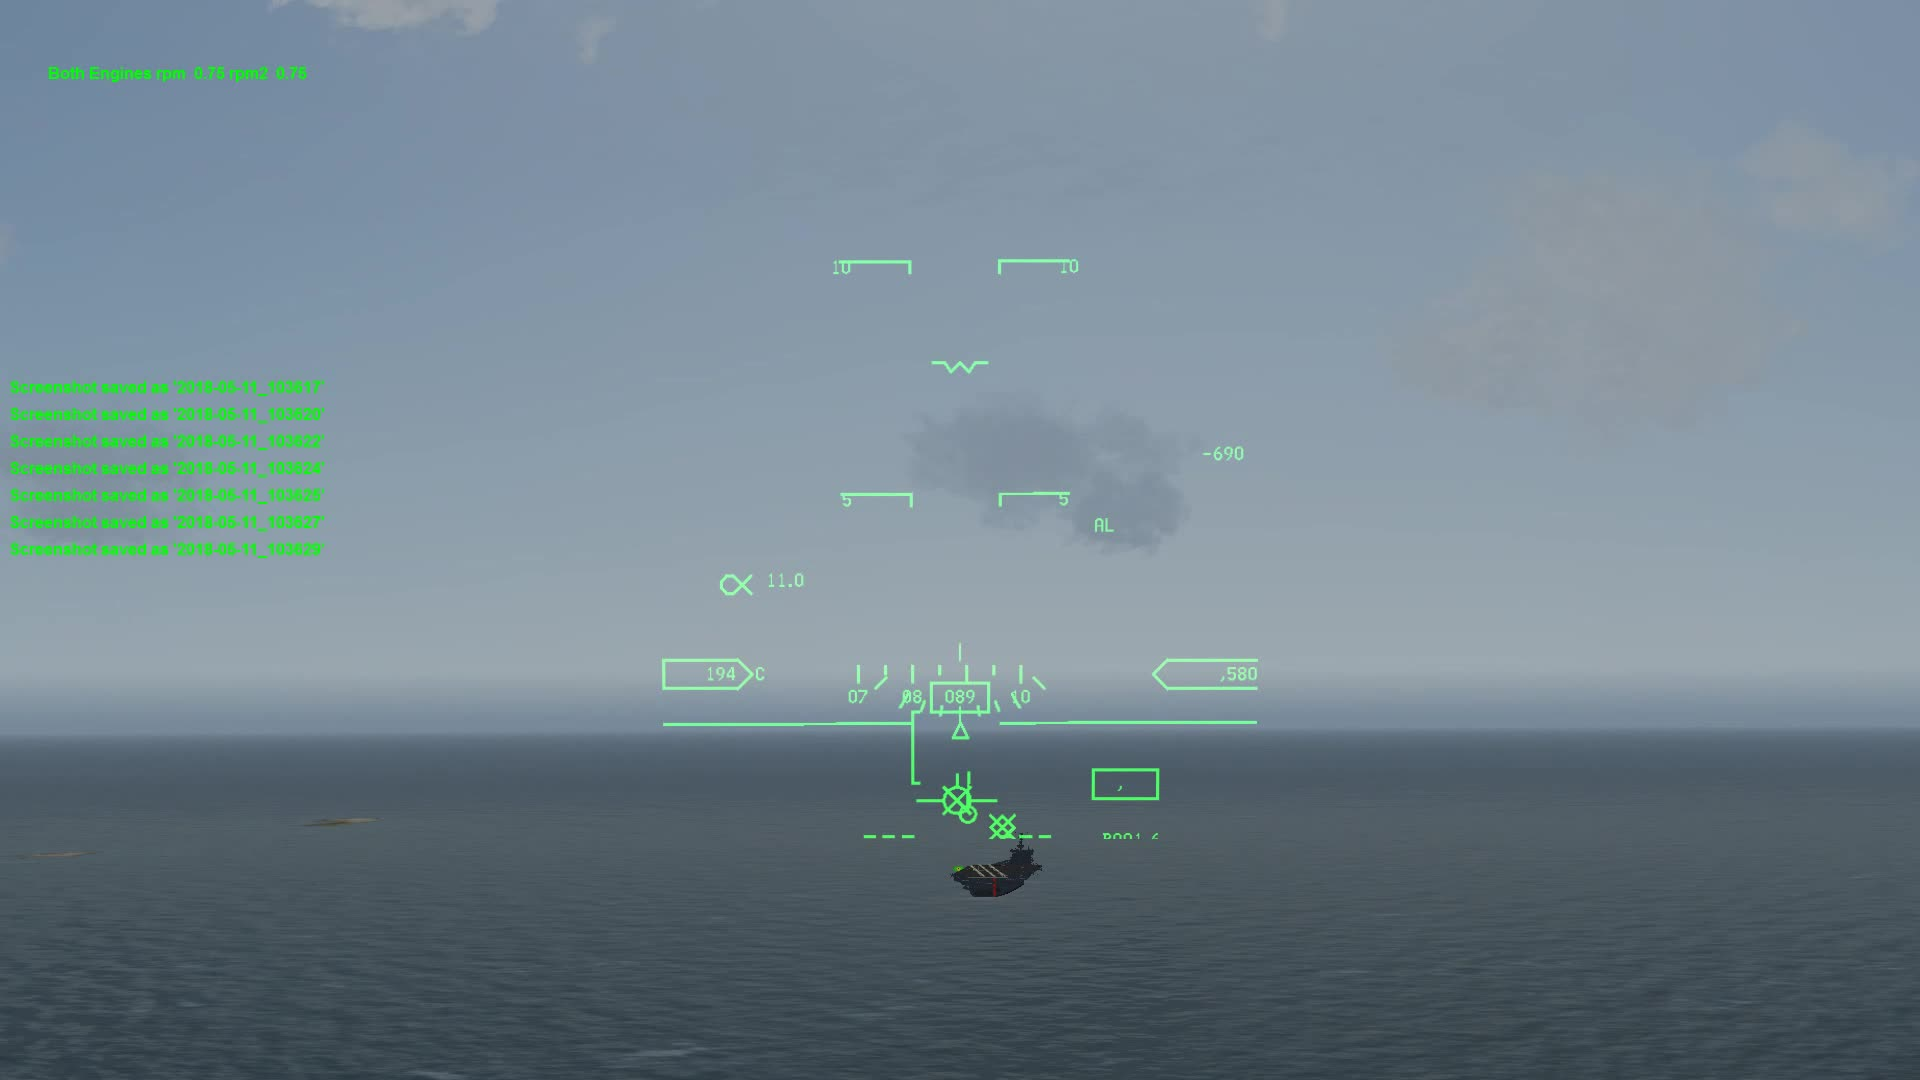speed vector: (913, 774, 1007, 818)
